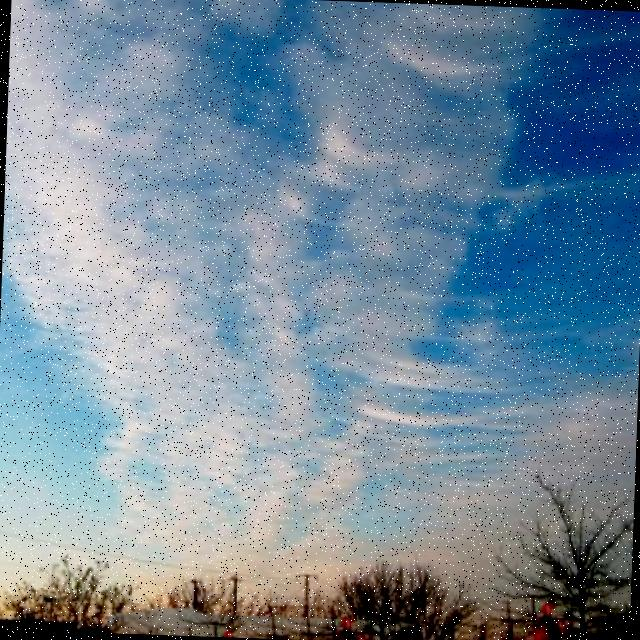Ci: (31, 1, 544, 517)
